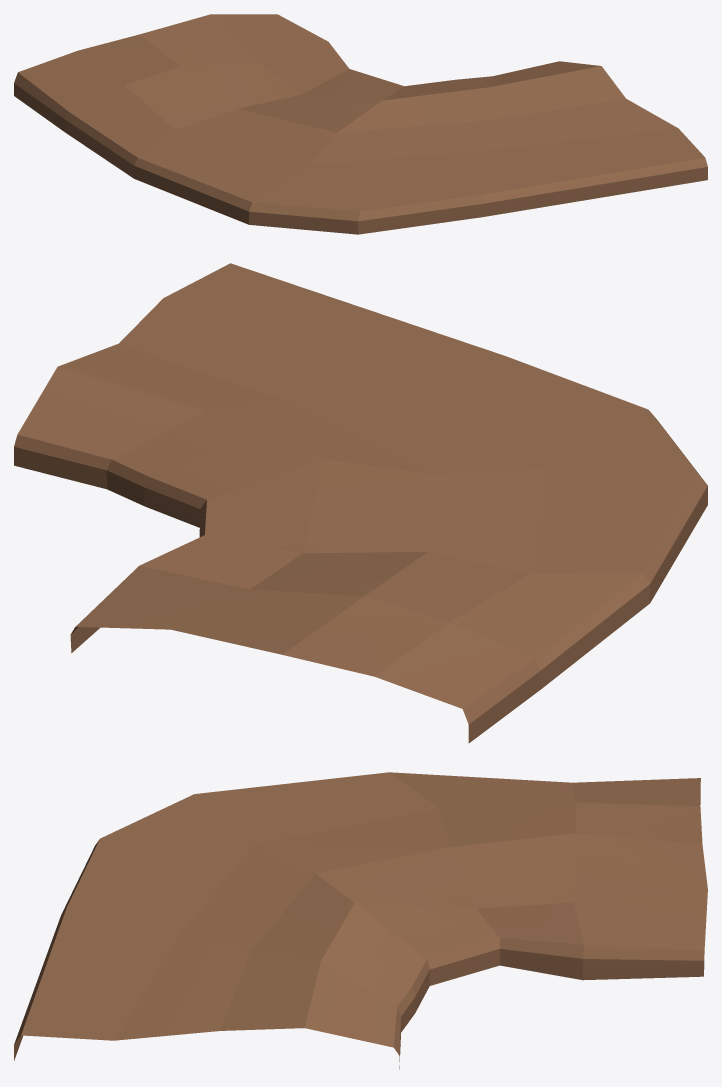
Rendered from RoadTile_3.fbx.
3 renders of one model, top to bottom at view 1: azimuth 30°, elevation 25°; view 2: azimuth 150°, elevation 25°; view 3: azimuth 270°, elevation 25°, orthographic. The views are drawn at different scales.
Visible parts, largest first — view 1: RoadTile_3; view 2: RoadTile_3; view 3: RoadTile_3.
Boxes of the visible parts, x1,y1,x2,y2 form: RoadTile_3: [14, 14, 707, 234]; RoadTile_3: [14, 263, 707, 743]; RoadTile_3: [14, 772, 707, 1069].
Size of the model in its own units: 668 by 59.05 by 716.
